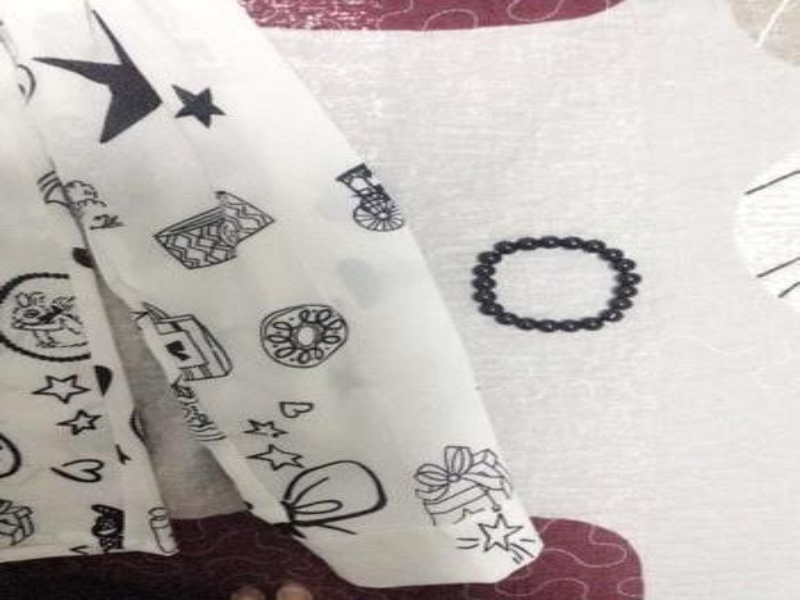long_sleeved_shirt: (0, 1, 552, 594)
